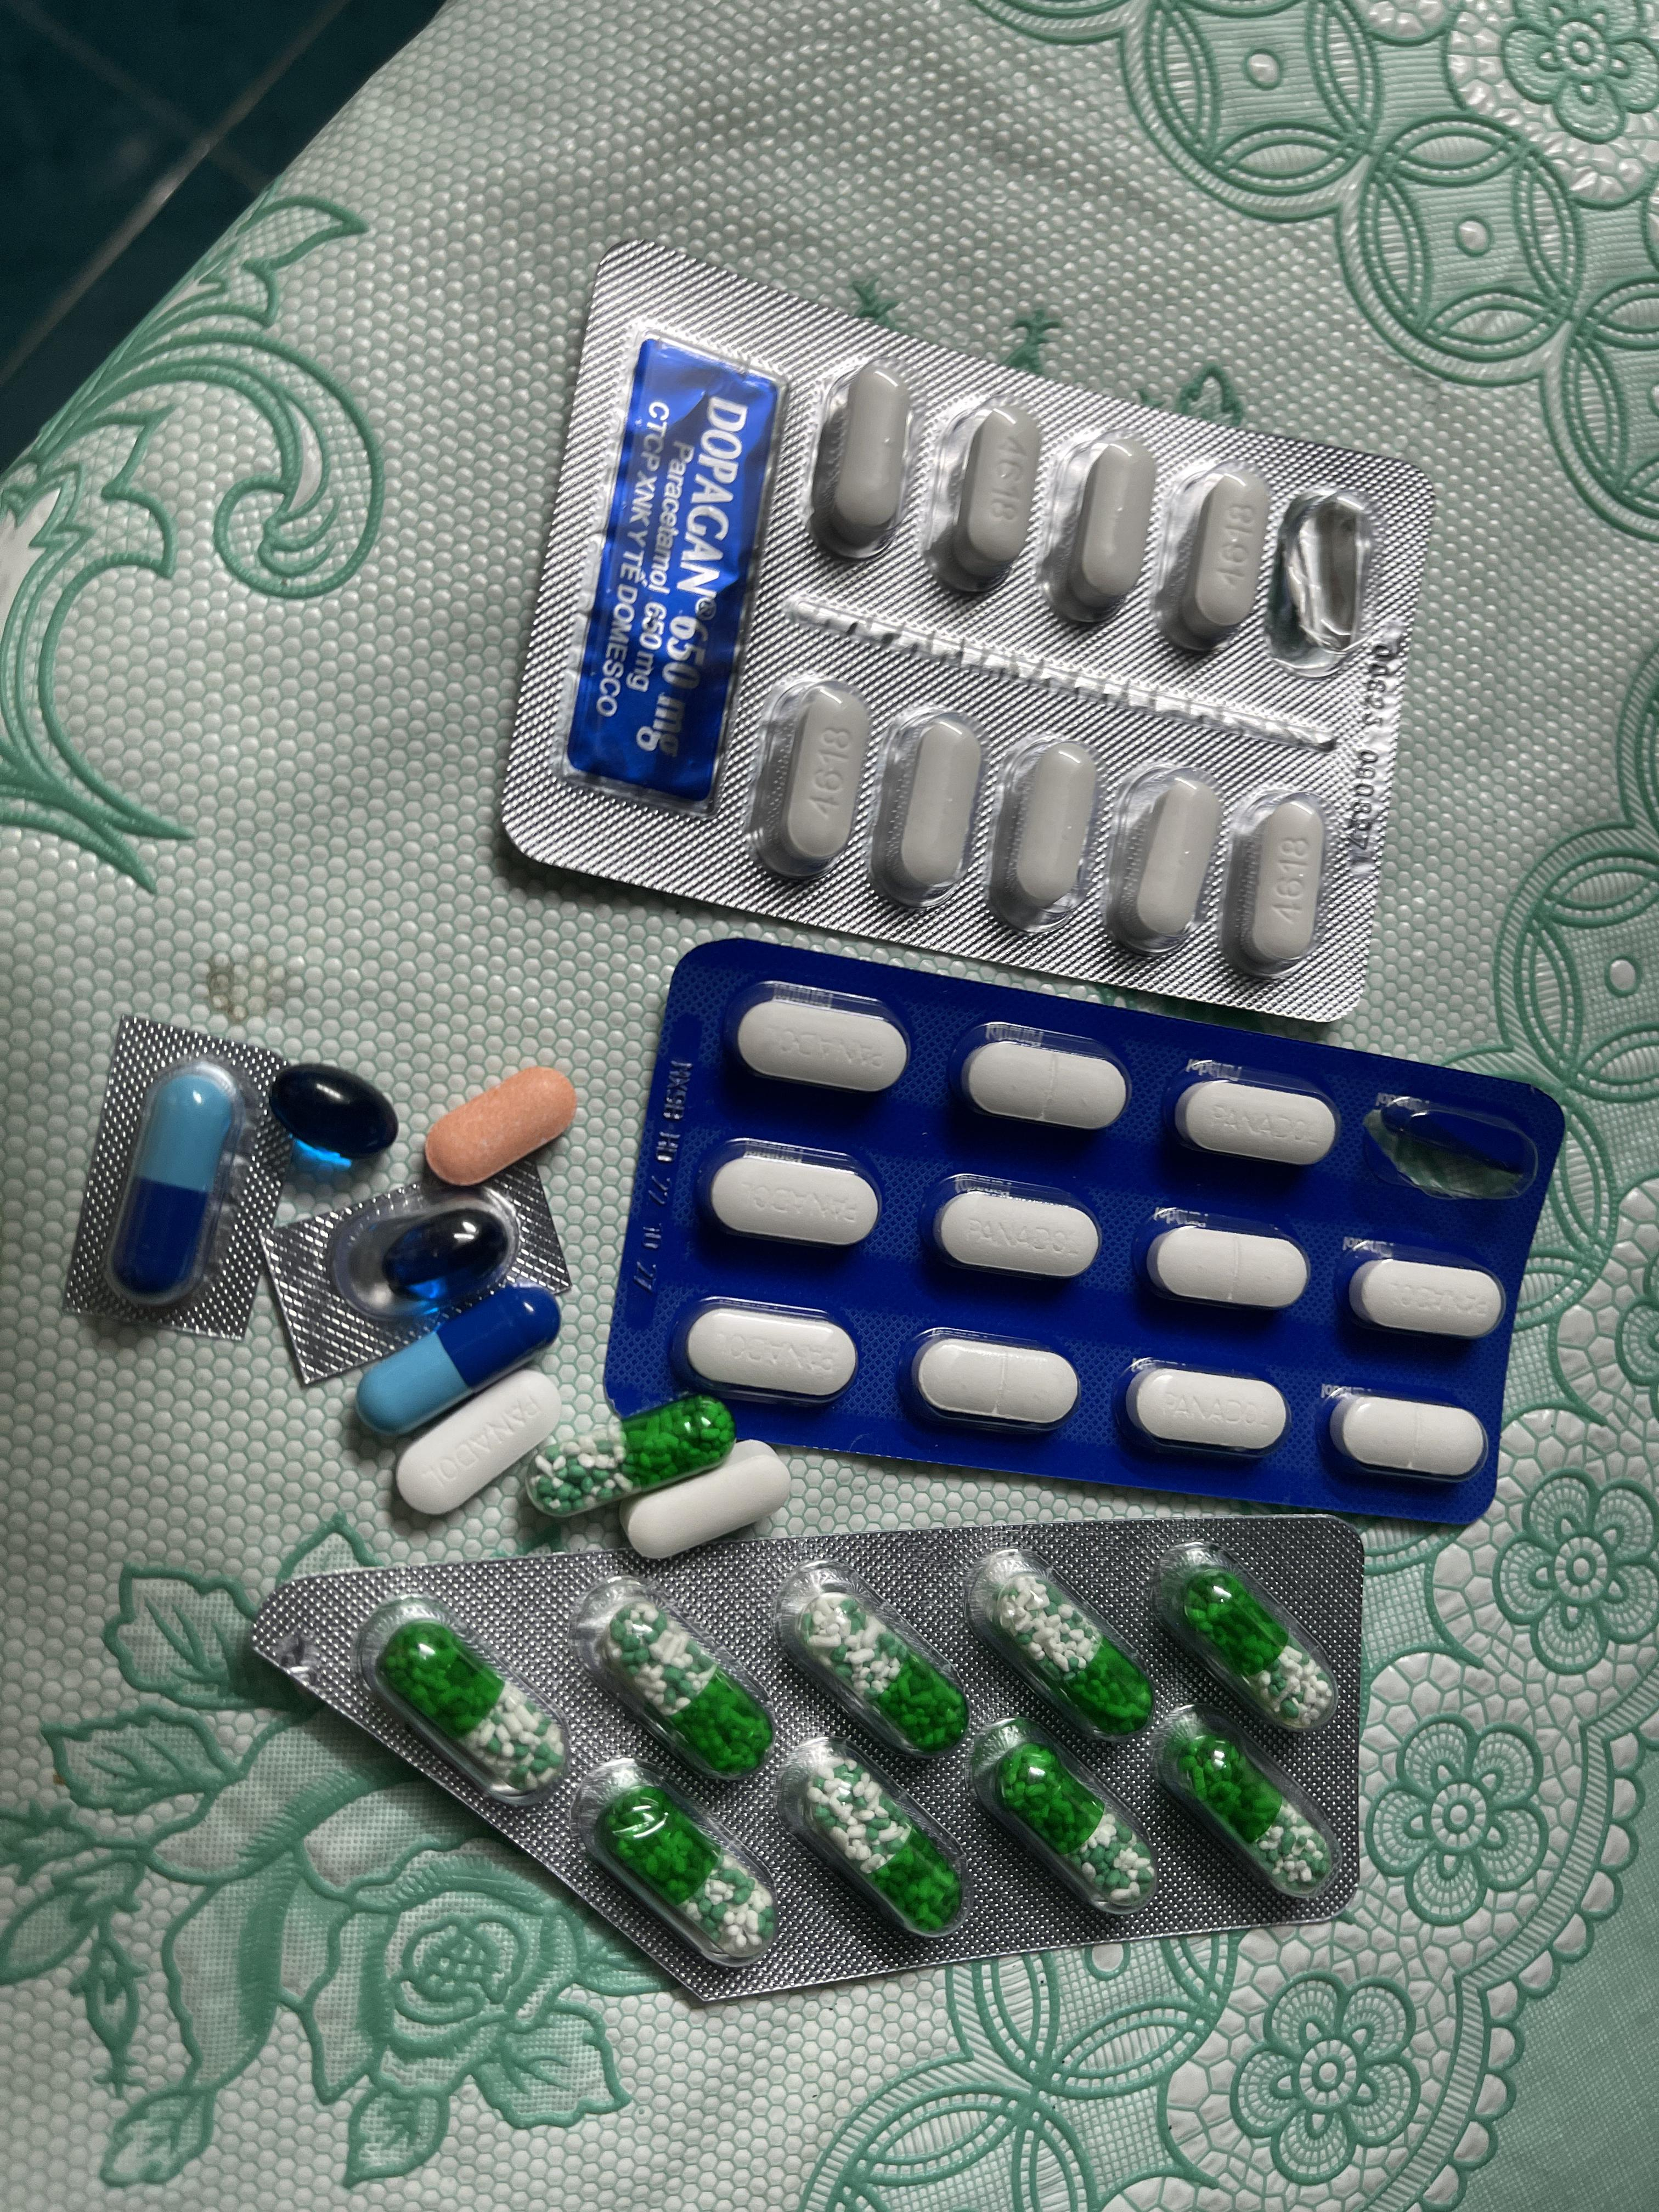Lincomyxin_500mg: (267, 1062, 403, 1167), (376, 1209, 512, 1306)
Loratadine_10mg: (422, 1068, 577, 1190)
Paracetamol_350mg: (389, 1369, 561, 1514), (737, 995, 911, 1096), (706, 1150, 878, 1249), (683, 1306, 852, 1406), (913, 1334, 1080, 1432), (962, 1038, 1133, 1132), (934, 1186, 1103, 1280), (1127, 1362, 1288, 1460), (1173, 1078, 1337, 1169), (1345, 1251, 1507, 1341), (1330, 1392, 1488, 1484), (1147, 1223, 1309, 1312)
Paracetamol_500mg: (751, 681, 871, 885), (868, 704, 985, 906), (925, 395, 1042, 592), (988, 737, 1103, 934), (1152, 458, 1269, 651), (1103, 763, 1220, 954), (1044, 432, 1157, 625), (810, 354, 917, 556), (1218, 789, 1328, 975), (629, 1439, 791, 1555)
Paracetamol_650mg: (969, 1714, 1161, 1916), (594, 1782, 774, 1956), (380, 1620, 565, 1789), (795, 1754, 965, 1933), (601, 1597, 774, 1773), (793, 1590, 969, 1754), (993, 1571, 1168, 1735), (1162, 1728, 1326, 1895), (523, 1395, 734, 1519), (1173, 1568, 1333, 1724)
pill: (106, 1059, 251, 1306), (352, 1285, 556, 1439)
